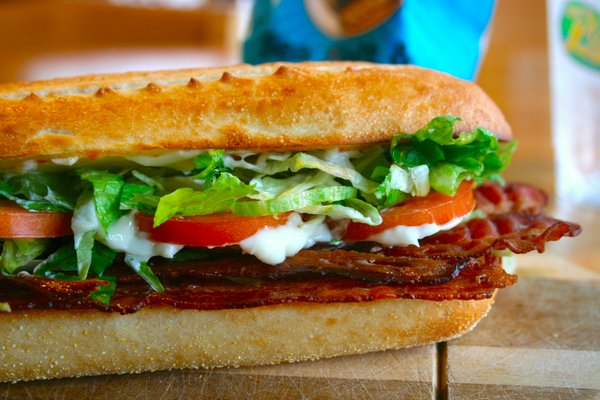soup: (0, 60, 522, 375)
